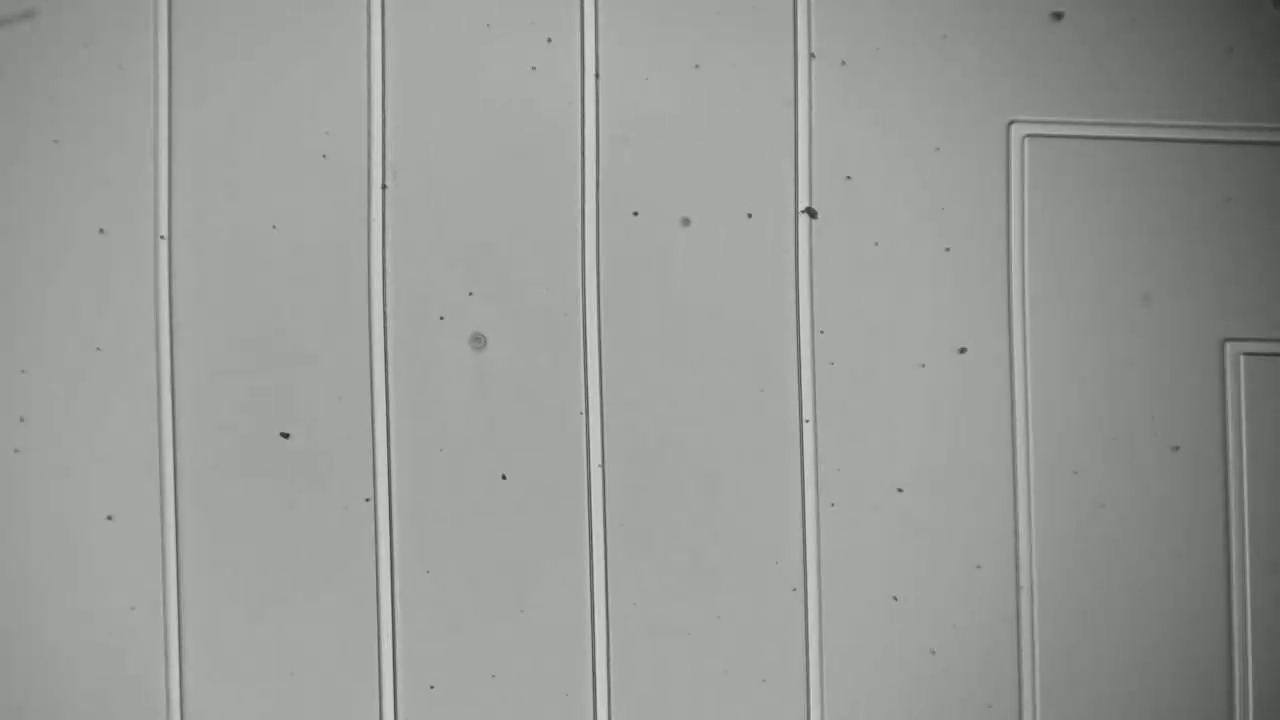stains_enbedded: (791, 199, 824, 227)
